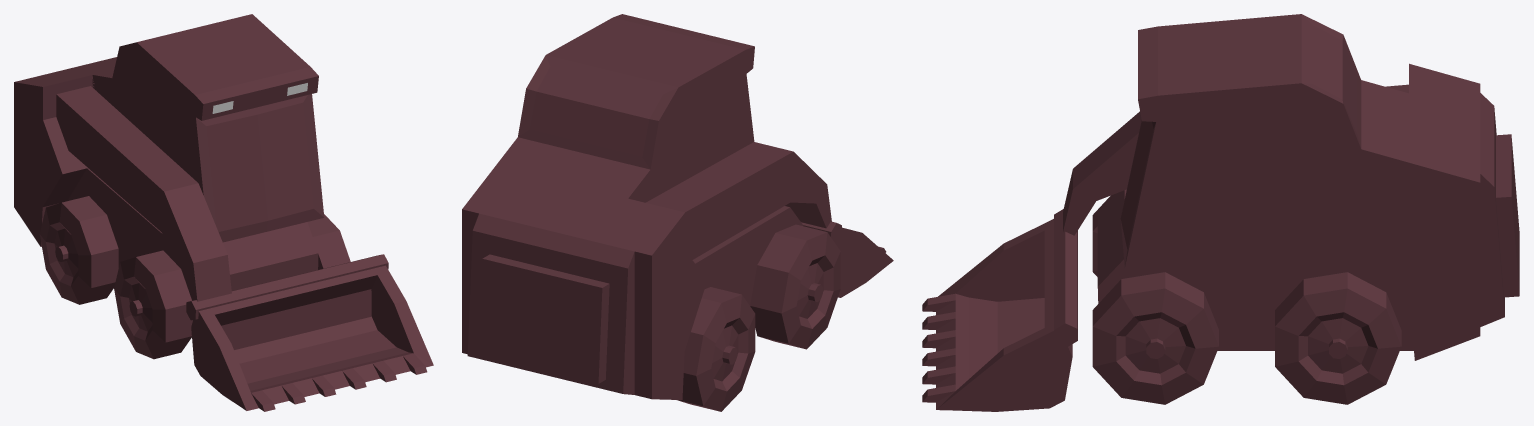
File: skid-steer-loader.fbx
3 renders of one model, left to right at view 1: azimuth 30°, elevation 25°; view 2: azimuth 150°, elevation 25°; view 3: azimuth 270°, elevation 25°, orthographic. The views are drawn at different scales.
Visible parts, largest first — view 1: skid-steer-loader-base, skid-steer-loader-arm, skid-steer-loader-wheel_BR, skid-steer-loader-wheel_FR, skid-steer-loader-wheel_FL; view 2: skid-steer-loader-base, skid-steer-loader-arm, skid-steer-loader-wheel_FR, skid-steer-loader-wheel_BR; view 3: skid-steer-loader-base, skid-steer-loader-arm, skid-steer-loader-wheel_FL, skid-steer-loader-wheel_BL.
Boxes of the visible parts, bbox=[...] form: skid-steer-loader-base: bbox=[14, 14, 324, 300]; skid-steer-loader-arm: bbox=[56, 86, 433, 411]; skid-steer-loader-wheel_BR: bbox=[39, 196, 118, 304]; skid-steer-loader-wheel_FR: bbox=[114, 250, 192, 359]; skid-steer-loader-wheel_FL: bbox=[307, 214, 350, 269]; skid-steer-loader-base: bbox=[462, 14, 802, 399]; skid-steer-loader-arm: bbox=[645, 142, 893, 297]; skid-steer-loader-wheel_FR: bbox=[750, 224, 840, 349]; skid-steer-loader-wheel_BR: bbox=[677, 287, 755, 411]; skid-steer-loader-base: bbox=[1097, 14, 1519, 360]; skid-steer-loader-arm: bbox=[922, 84, 1408, 411]; skid-steer-loader-wheel_FL: bbox=[1092, 272, 1218, 404]; skid-steer-loader-wheel_BL: bbox=[1275, 272, 1401, 404].
Bounding box in the file's own units: 1.8 × 2.05 × 3.55.
